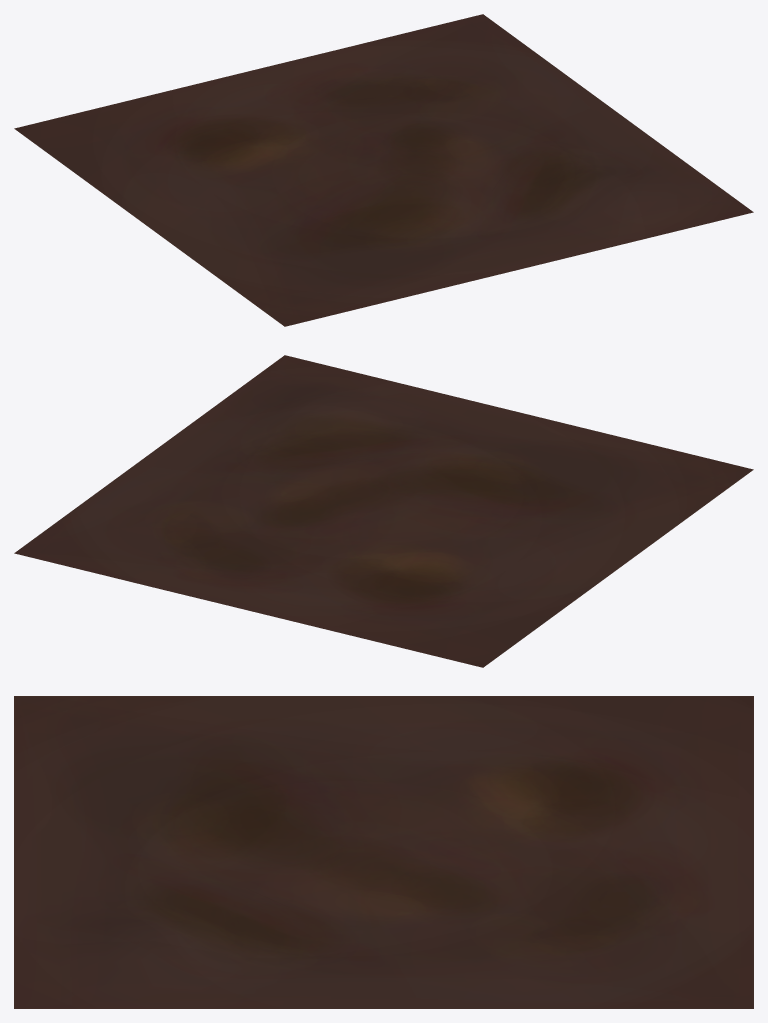
Rendered from Ground_1.fbx.
3 views of the same model, one above another, from view 1: azimuth 30°, elevation 25°; view 2: azimuth 150°, elevation 25°; view 3: azimuth 270°, elevation 25° (orthographic). The views are drawn at different scales.
Visible parts, largest first — view 1: Ground_1; view 2: Ground_1; view 3: Ground_1.
Boxes of the visible parts, x1,y1,x2,y2 form: Ground_1: (14, 14, 753, 326); Ground_1: (14, 355, 753, 667); Ground_1: (14, 696, 753, 1008).
Bounding box in the file's own units: 200 × 6.1 × 200.
1 material, 1 textured.
